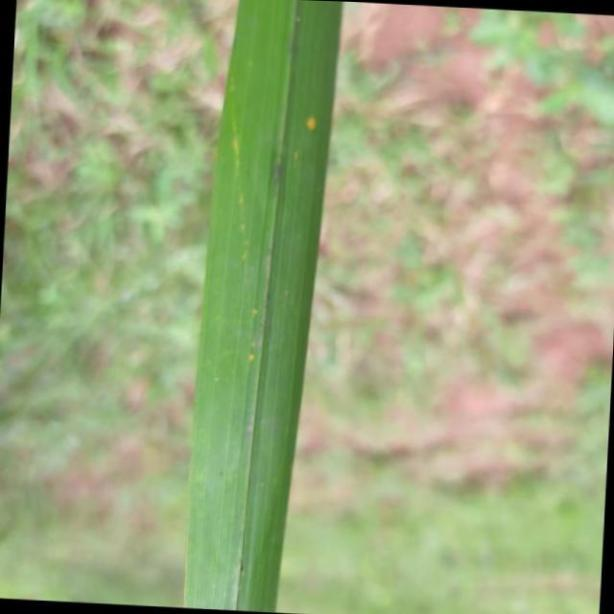Kalium: (180, 0, 348, 614)
